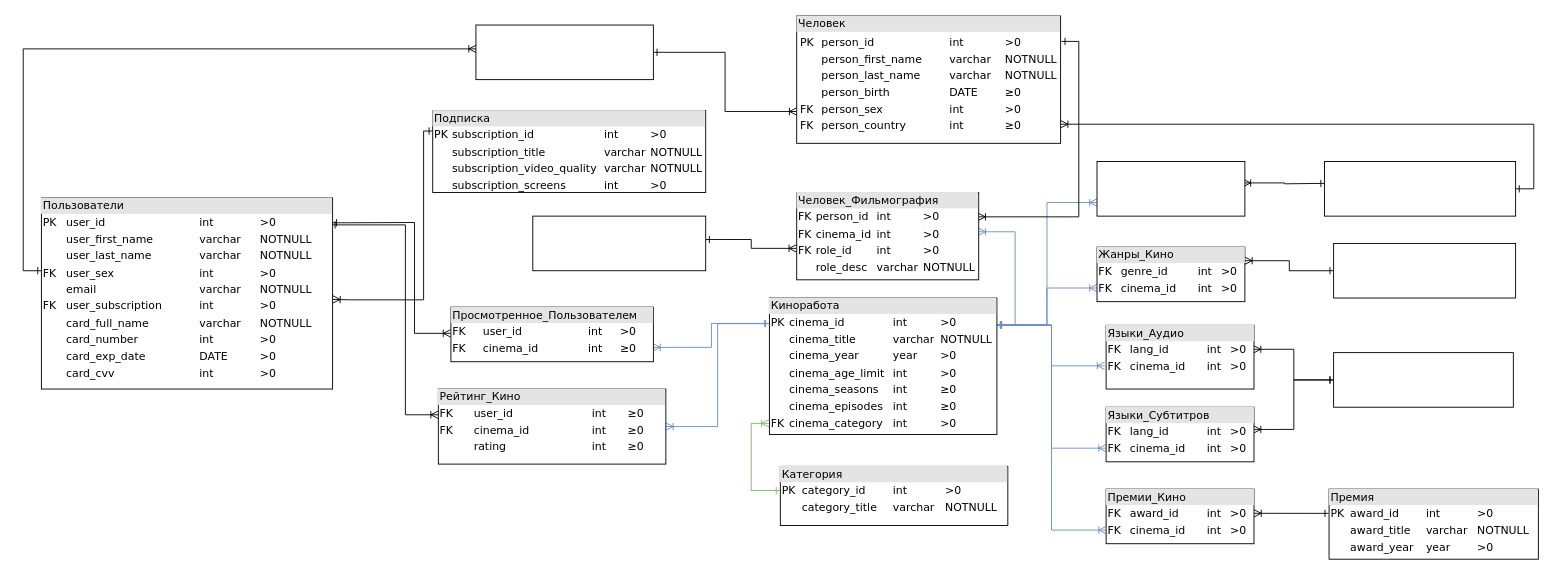
Some shapes in this 1558 by 575 pixel diagram are drawn without their labels. The shapes that lost their labels are listed below. From the top down, each one's box as (x1, y1, x2, y2) in pixels, then its label:
(475, 24, 653, 80): Пол PK sex_id int >0 sex_title varchar NOTNULL
(1096, 161, 1245, 216): Страны_Кино FK country_id int >0 FK cinema_id int >0
(1324, 161, 1516, 216): Страна PK country_id int >0 country_title varchar NOTNULL
(532, 215, 706, 271): Роль PK role_id int >0 role_title varchar NOTNULL
(1333, 243, 1516, 298): Жанры PK genre_id int >0 genre_title varchar NOTNULL
(1333, 352, 1513, 407): Язык PK lang_id int >0 lang_title varchar NOTNULL
